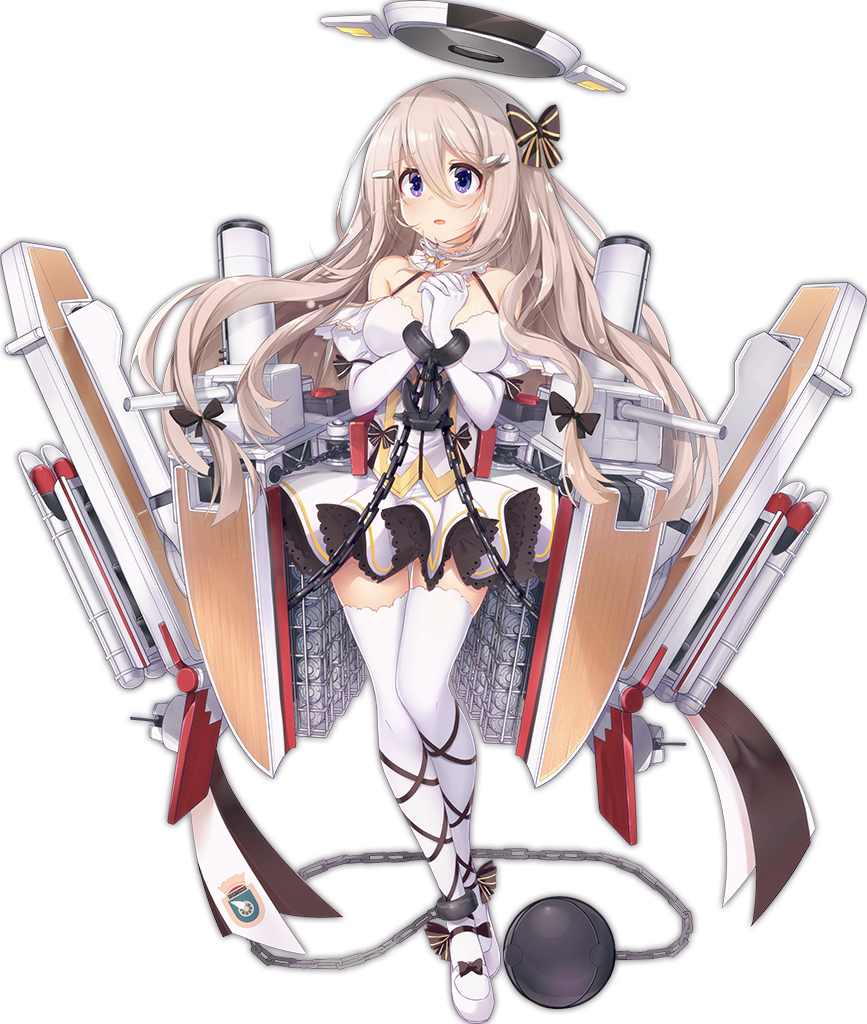person: (121, 74, 781, 882)
